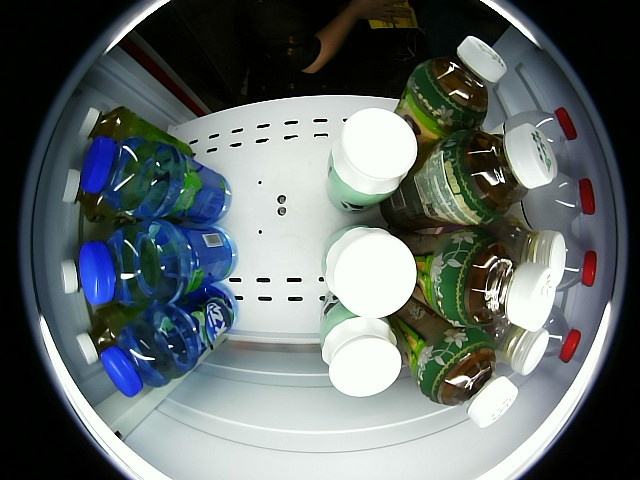asamu_xiaoye: (326, 108, 416, 215), (321, 225, 416, 318), (320, 292, 401, 398)
maidong_qingning: (102, 282, 236, 397), (80, 219, 236, 308), (80, 136, 230, 225)
moliqingcha: (380, 123, 557, 228), (384, 297, 518, 428), (389, 228, 555, 331), (393, 36, 507, 163)
nongfushanquan: (503, 168, 593, 231), (486, 106, 577, 159), (554, 231, 595, 295), (542, 303, 581, 362)
shuiputao: (488, 216, 565, 289), (488, 319, 549, 375)
tianwo_fengmiyouzi: (78, 106, 193, 155), (75, 299, 149, 365), (62, 168, 142, 224), (62, 259, 83, 293)
